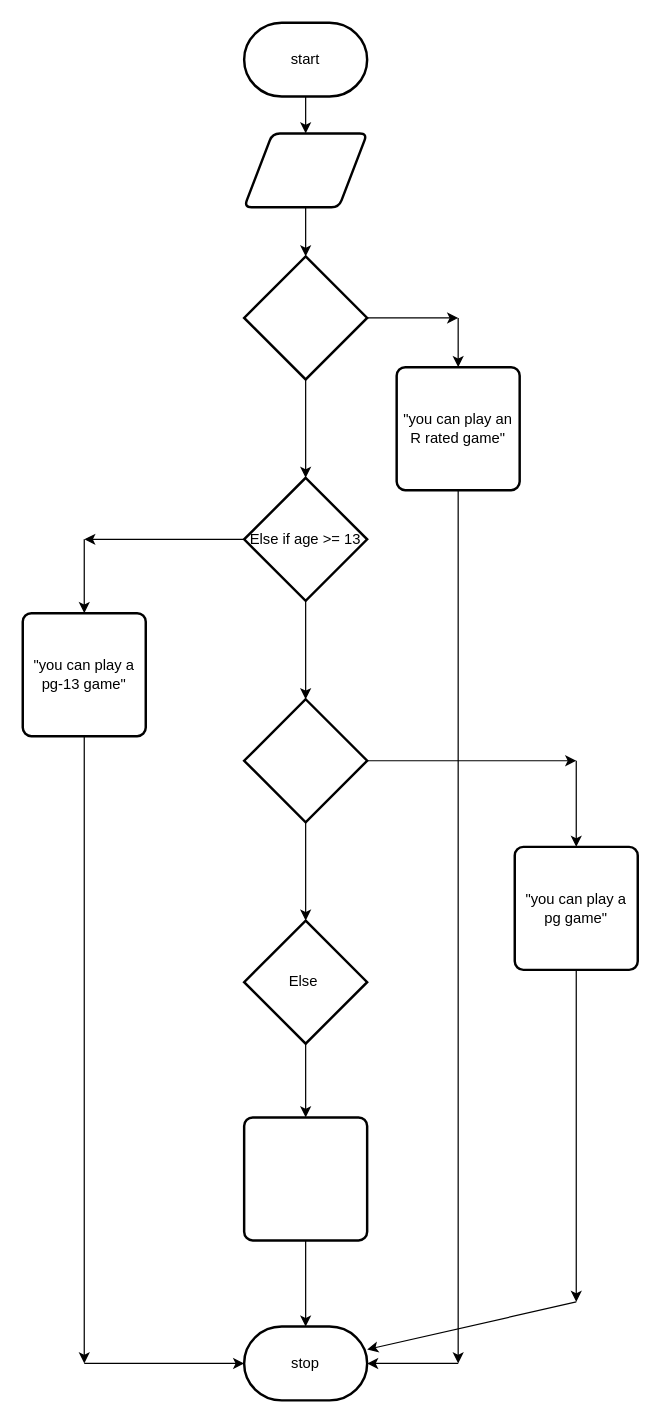
This 659x1422 diagram has some shape labels left out. Each missing label, with the centre of its shape:
"are you even human?": point (305, 1178)
Else if age >= 5: point (305, 760)
if age >= 17: point (305, 317)
insert age: point (305, 170)
